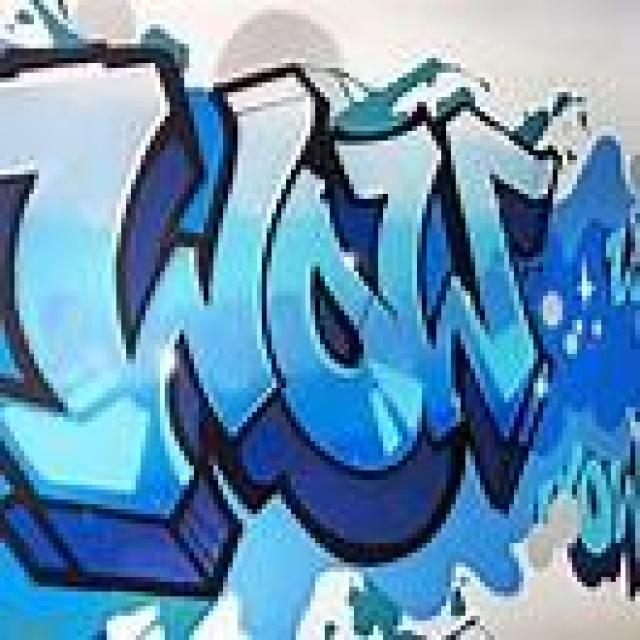nonspitting: (0, 29, 558, 599)
